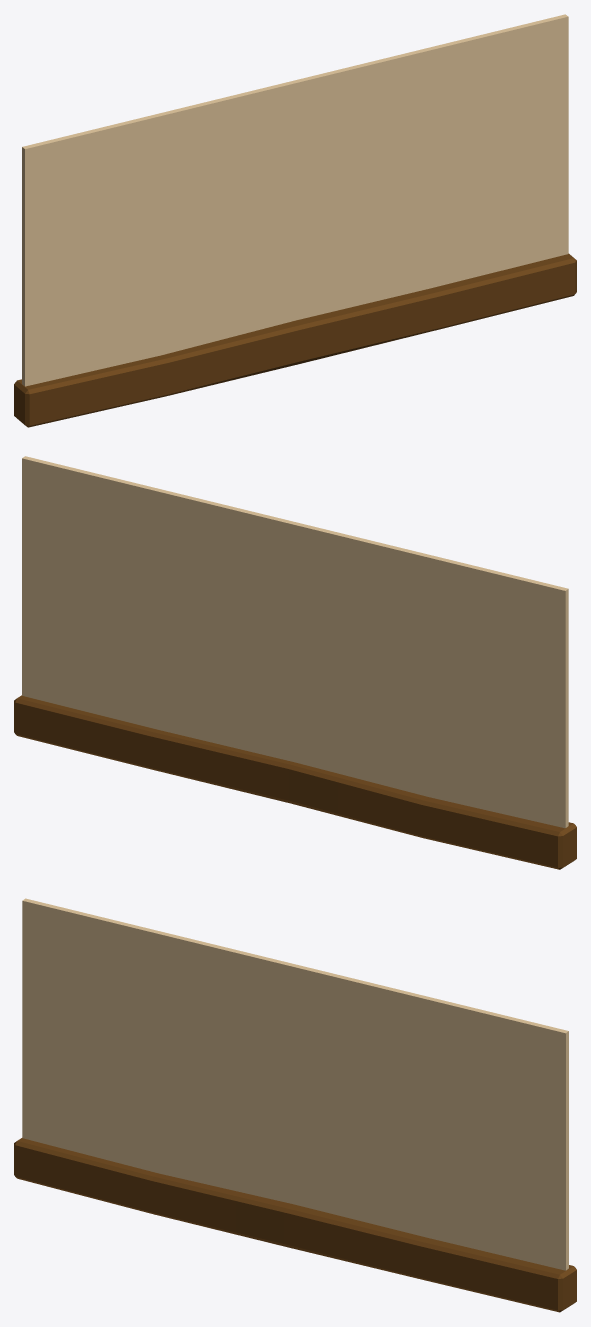
Rendered from Wall_03.fbx.
3 renders of one model, top to bottom at view 1: azimuth 30°, elevation 25°; view 2: azimuth 150°, elevation 25°; view 3: azimuth 330°, elevation 25°, orthographic.
Visible parts, largest first — view 1: Wall_03; view 2: Wall_03; view 3: Wall_03.
Part boxes in pixels (x1,y1,x2,y2): Wall_03: (14, 14, 576, 427); Wall_03: (14, 456, 576, 869); Wall_03: (14, 898, 576, 1312).
Size of the model in its own units: 584 by 280 by 32.29.
